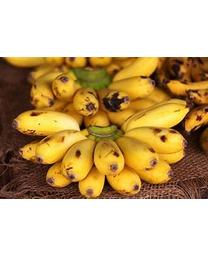banana: (14, 69, 189, 196)
